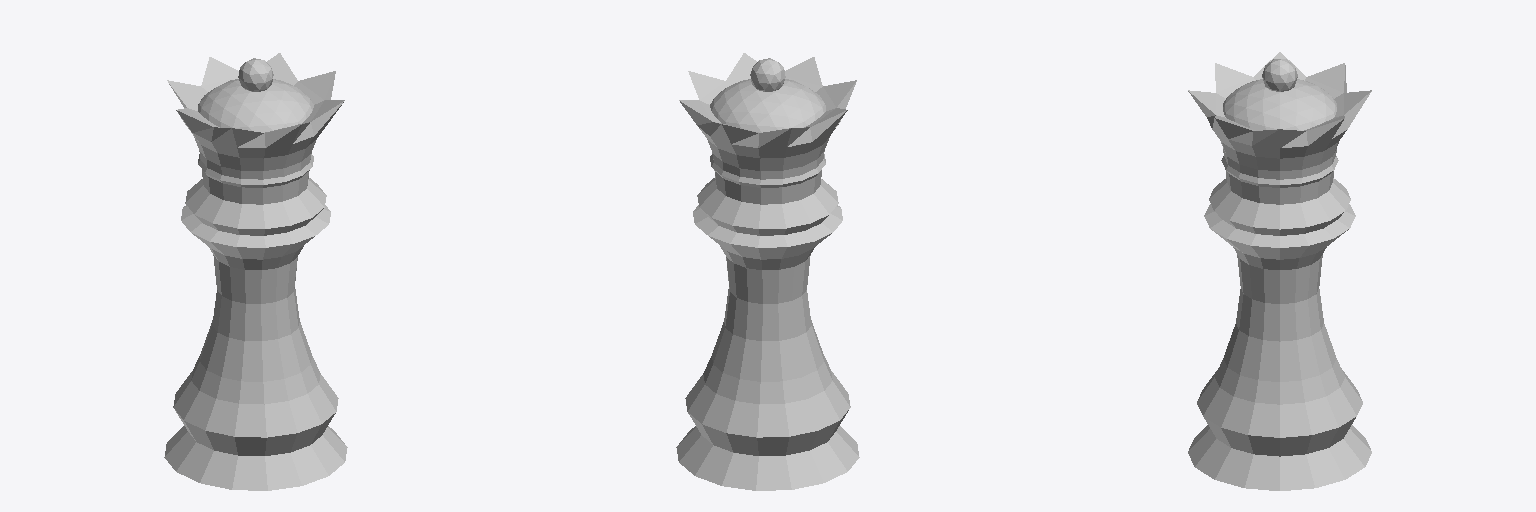
The model's file is queen.obj.
The picture shows the model from 3 angles: view 1: azimuth 30°, elevation 25°; view 2: azimuth 150°, elevation 25°; view 3: azimuth 270°, elevation 25°; orthographic projection.
Visible parts, largest first — view 1: Cylinder.007, Icosphere.007, Icosphere.006; view 2: Cylinder.007, Icosphere.007, Icosphere.006; view 3: Cylinder.007, Icosphere.007, Icosphere.006.
Boxes of the visible parts, x1=… form: Cylinder.007: x1=164, y1=53, x2=347, y2=490; Icosphere.007: x1=198, y1=79, x2=313, y2=132; Icosphere.006: x1=238, y1=58, x2=273, y2=91; Cylinder.007: x1=676, y1=53, x2=859, y2=490; Icosphere.007: x1=710, y1=79, x2=825, y2=132; Icosphere.006: x1=750, y1=58, x2=785, y2=91; Cylinder.007: x1=1188, y1=52, x2=1371, y2=490; Icosphere.007: x1=1223, y1=79, x2=1336, y2=130; Icosphere.006: x1=1262, y1=59, x2=1297, y2=91.
Size of the model in its own units: 3.69 by 8.64 by 3.69.